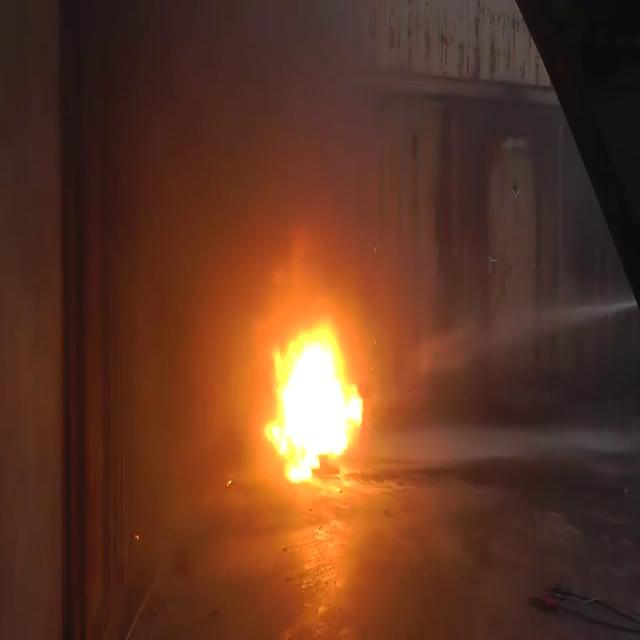Fire: (256, 312, 376, 489)
